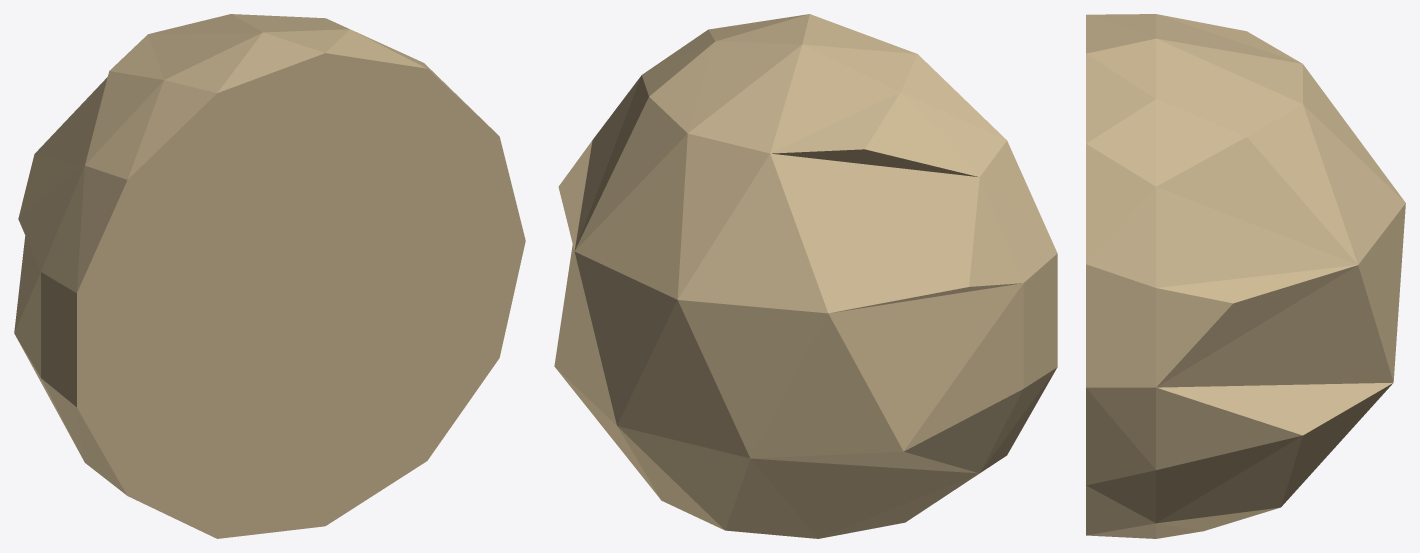
File: dough.glb
3 views of the same model, side by side, from view 1: azimuth 30°, elevation 25°; view 2: azimuth 150°, elevation 25°; view 3: azimuth 270°, elevation 25° (orthographic).
Parts seen in each view (by area): view 1: geometry_0; view 2: geometry_0; view 3: geometry_0.
Part boxes in pixels (x1,y1,x2,y2): geometry_0: (14, 14, 525, 538); geometry_0: (554, 14, 1057, 538); geometry_0: (1086, 14, 1405, 538).
Size of the model in its own units: 0.0741 by 0.075 by 0.0457.
